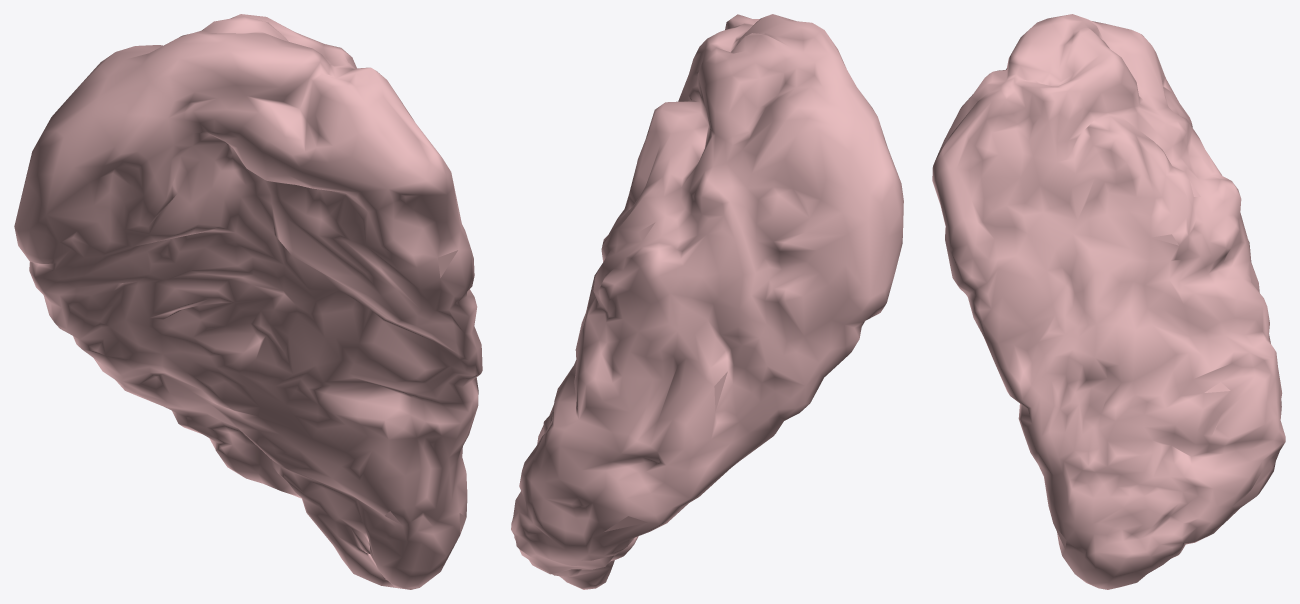
The model's file is 3d-vh-m-palatine-tonsil-l.glb.
3 renders of one model, left to right at view 1: azimuth 30°, elevation 25°; view 2: azimuth 150°, elevation 25°; view 3: azimuth 270°, elevation 25°, orthographic. The views are drawn at different scales.
Parts seen in each view (by area): view 1: VH_M_palatine_tonsil_L; view 2: VH_M_palatine_tonsil_L; view 3: VH_M_palatine_tonsil_L.
Part boxes in pixels (x1,y1,x2,y2): VH_M_palatine_tonsil_L: (14,14,482,589); VH_M_palatine_tonsil_L: (511,14,903,589); VH_M_palatine_tonsil_L: (932,14,1285,589).
Bounding box in the file's own units: 0.0163 × 0.0243 × 0.0159.
